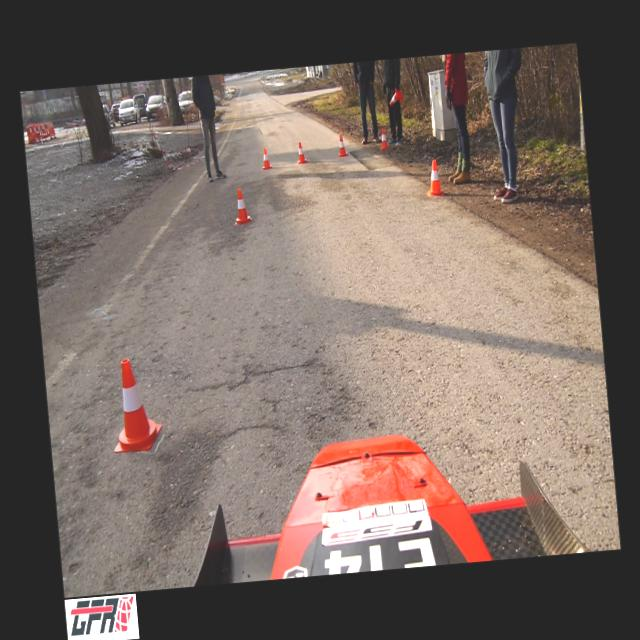orange_cone: (106, 356, 163, 452), (424, 158, 444, 196), (232, 188, 250, 224), (388, 88, 402, 104), (296, 141, 306, 163), (336, 134, 346, 156), (378, 128, 388, 150), (260, 148, 270, 168)
